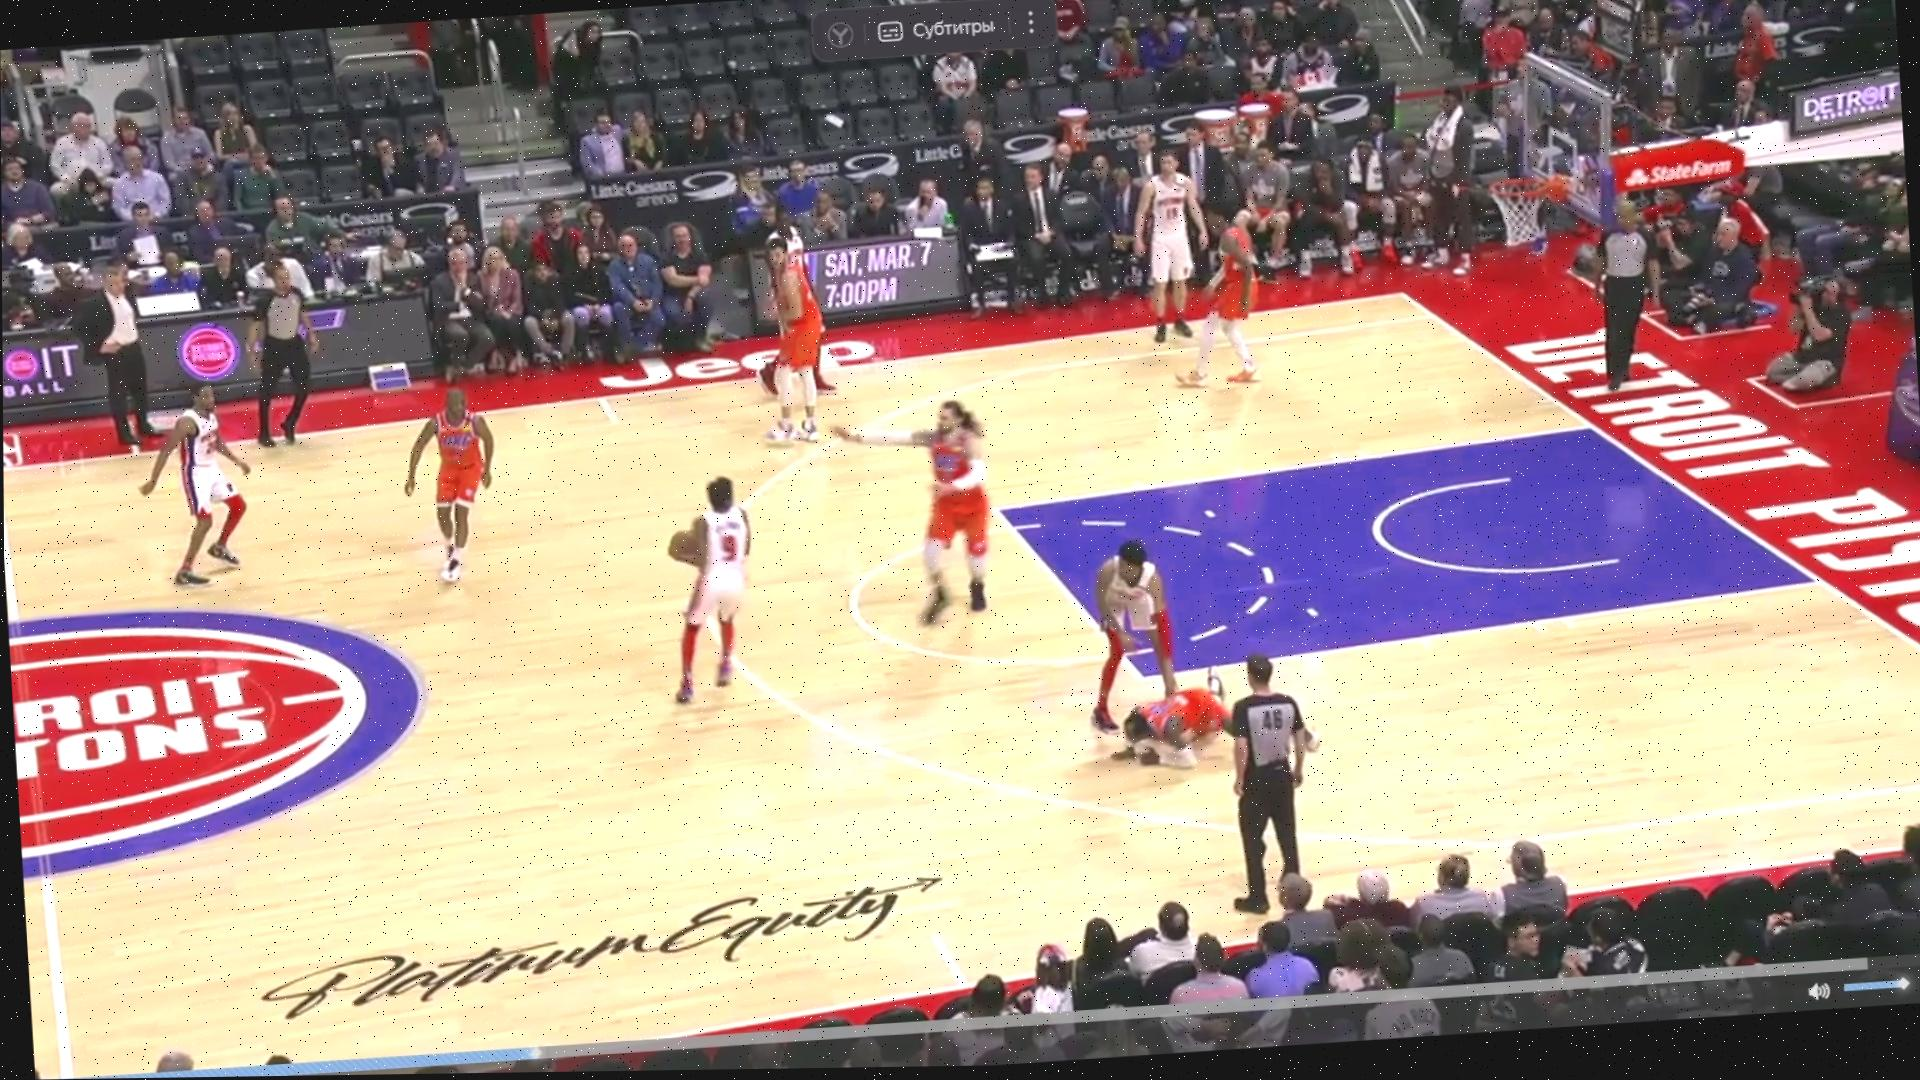foul: (1066, 519, 1233, 780)
